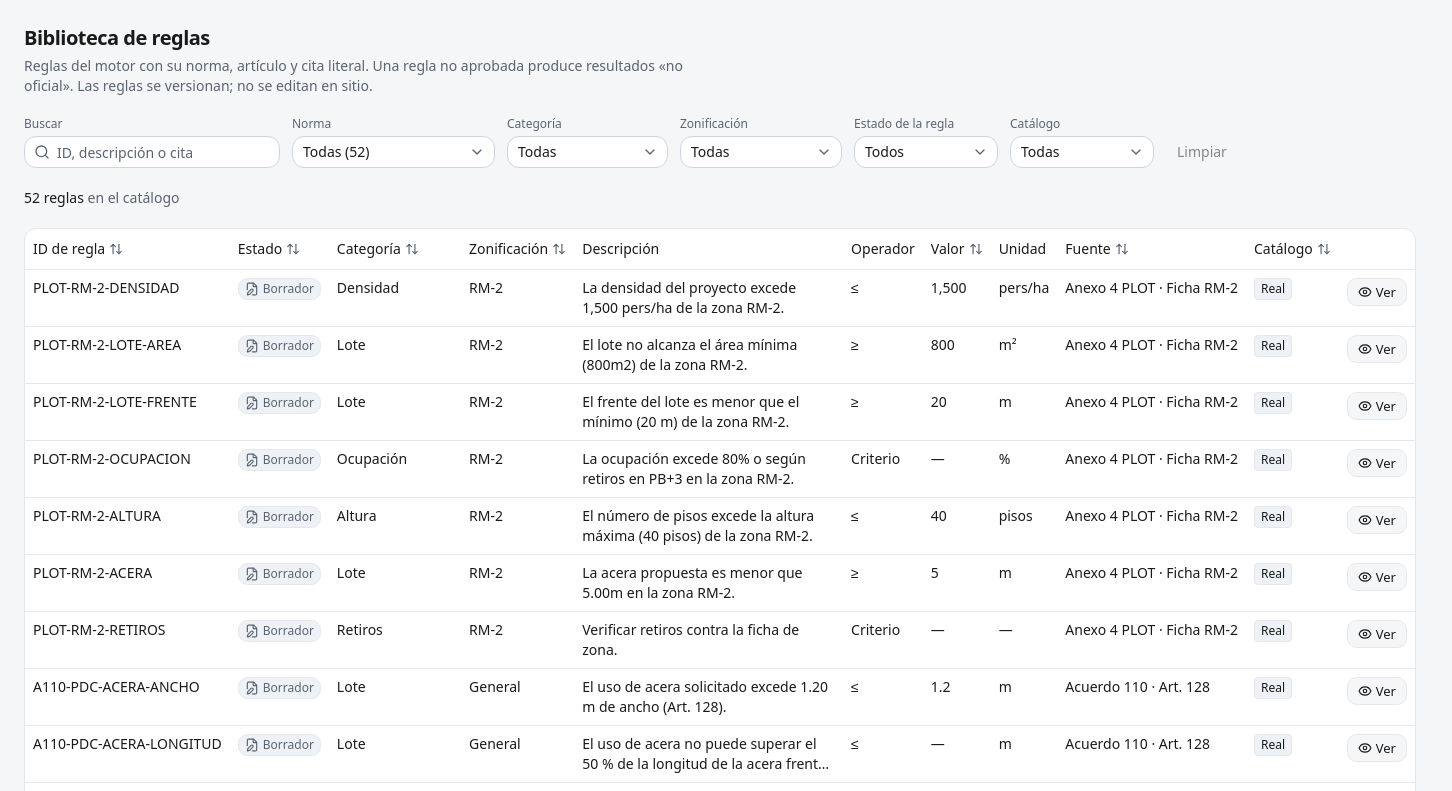
Test: RulesView › muestra estado de regla y catálogo, busca y filtra
Expected: the text "PLOT-RM-2-DENSIDAD" is shown, [33,278,179,296]
Click the search field labelled "Buscar" at (152, 152), box [24,136,280,168]
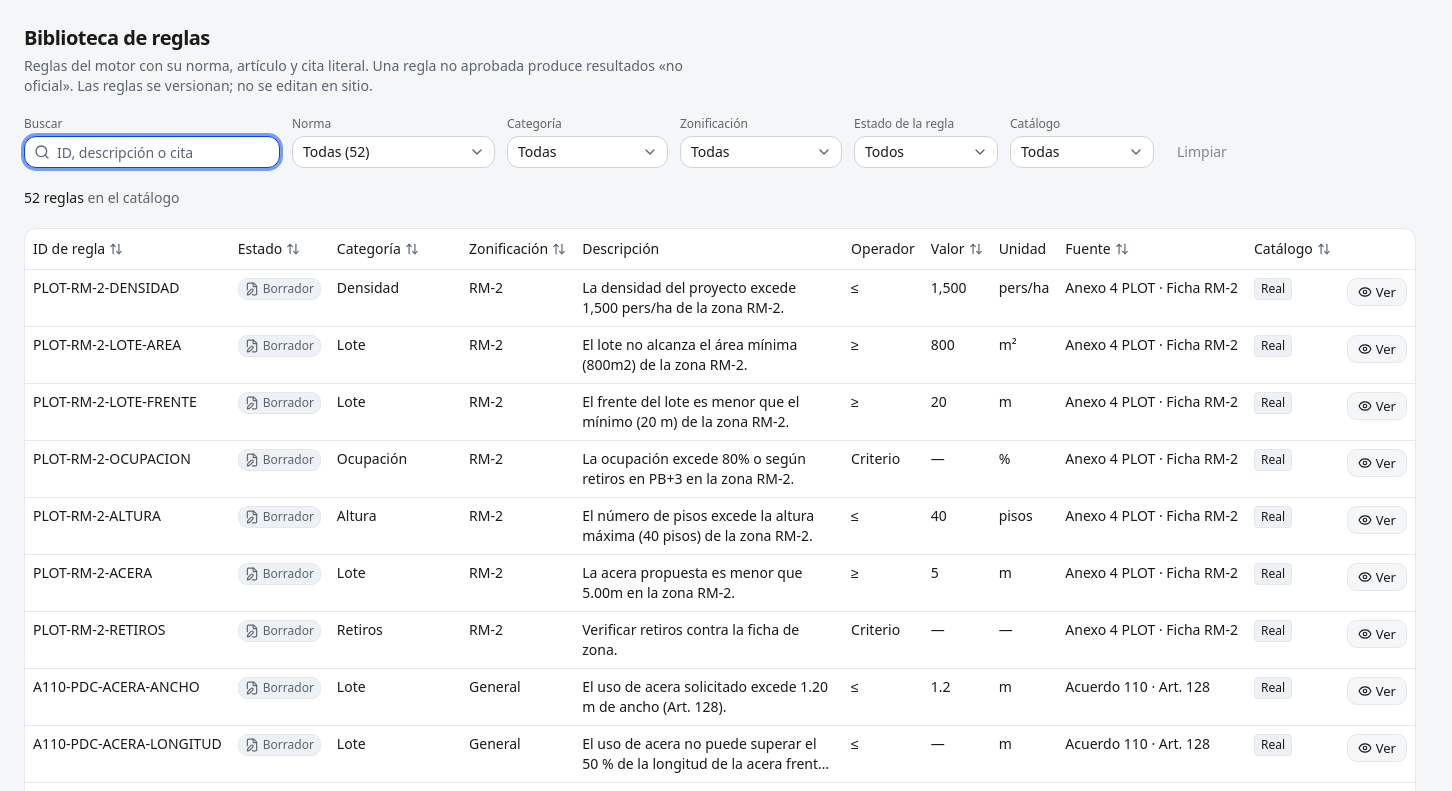
Type keys "retiros"
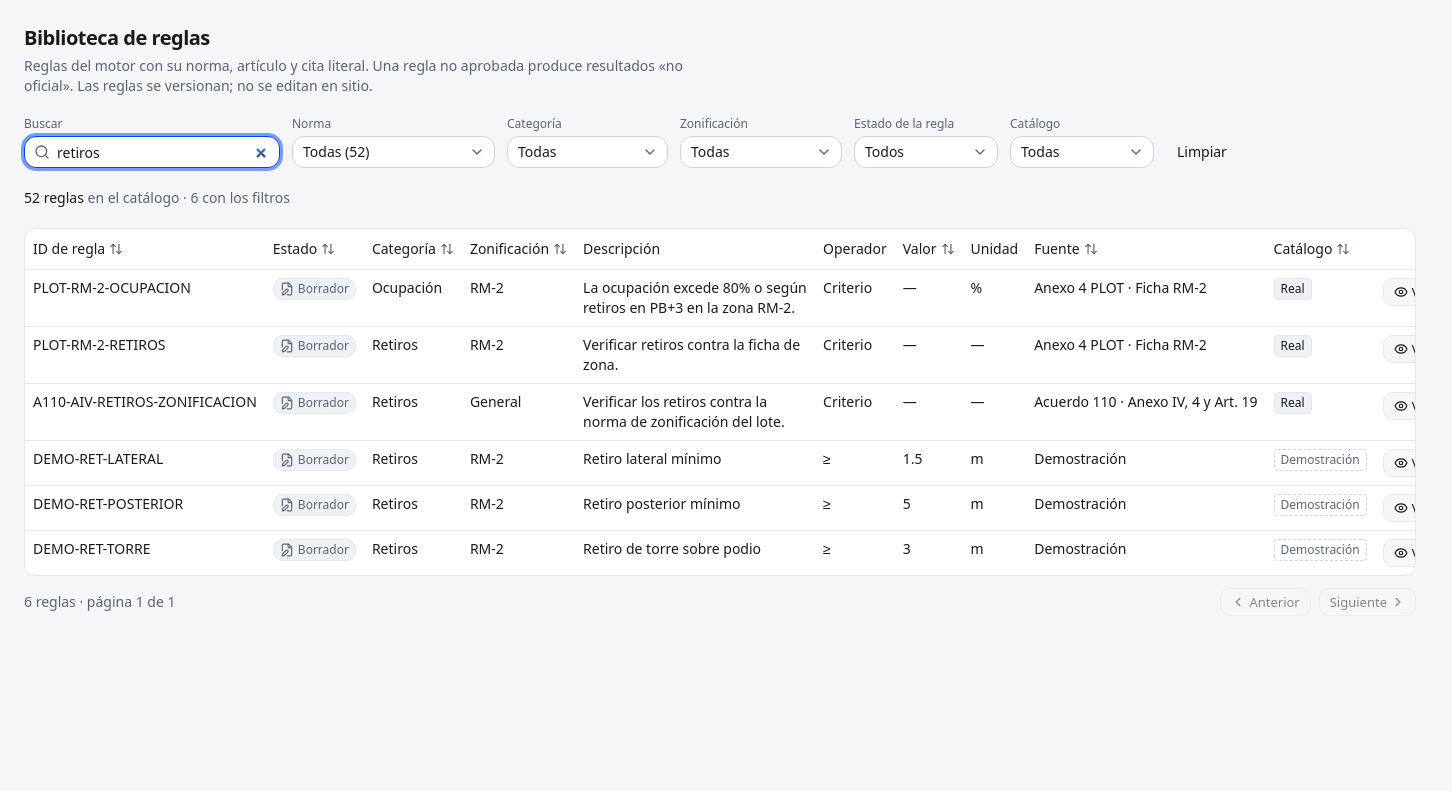
Now the text "PLOT-RM-2-RETIROS" is shown, box [33,334,166,354]
Select "Demostración" in the dropdown labelled "Catálogo" at (1082, 152), box [1010,136,1154,168]
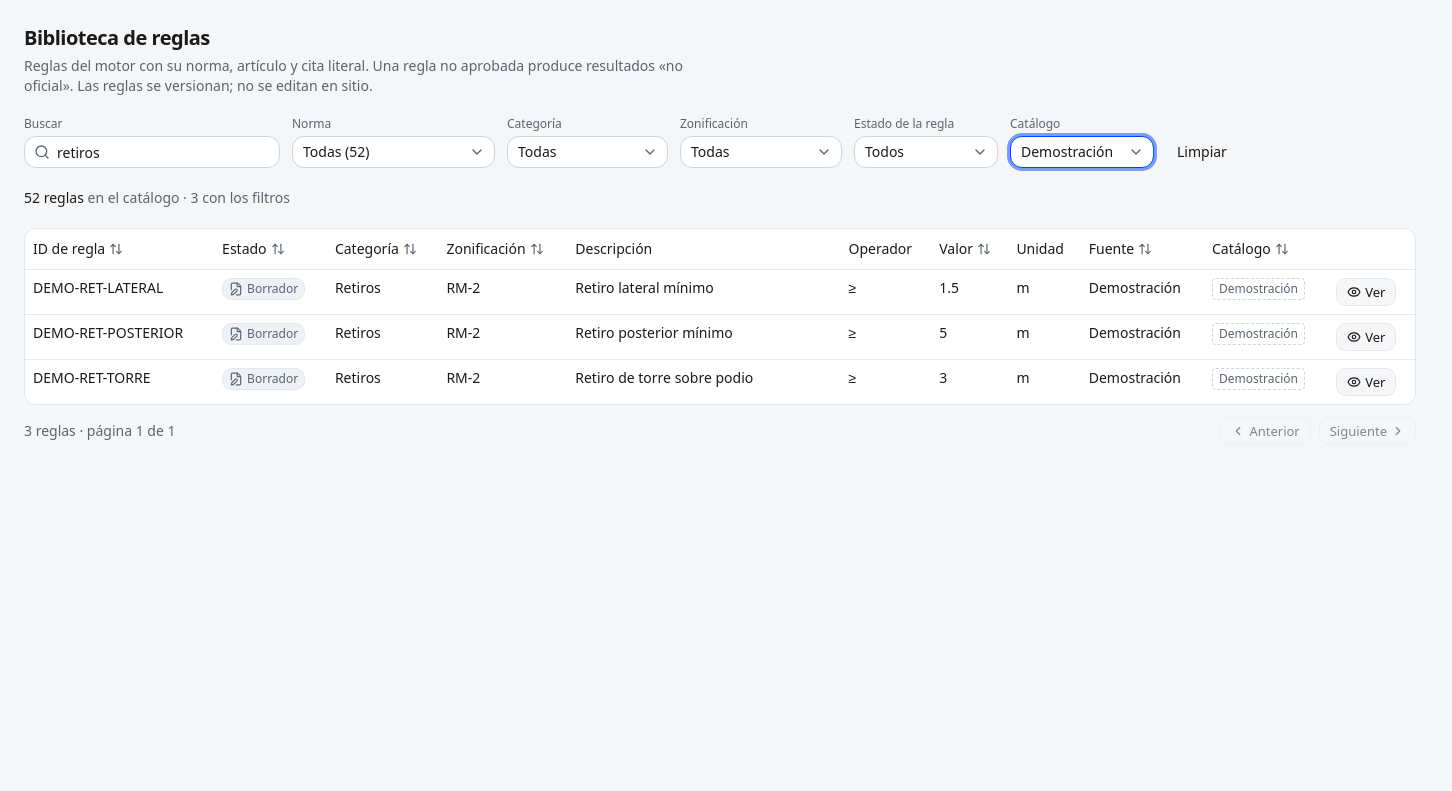
Now the text "PLOT-RM-2-RETIROS" is gone
Now the 2nd text "Demostración" is shown, box [1212,278,1305,300]
Now the 4th text "Demostración" is shown, box [1212,322,1305,344]
